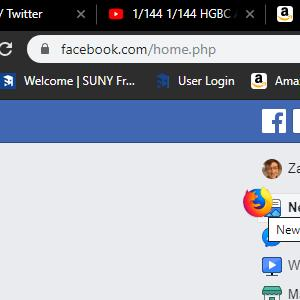firefox: (243, 186, 272, 218)
